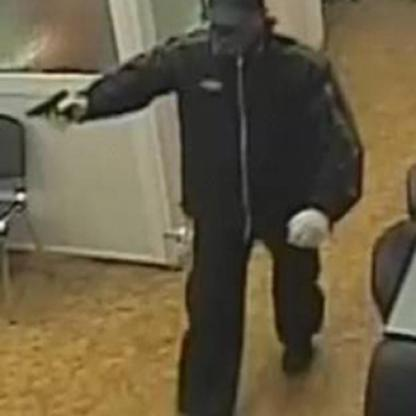pistols: (23, 84, 83, 136)
